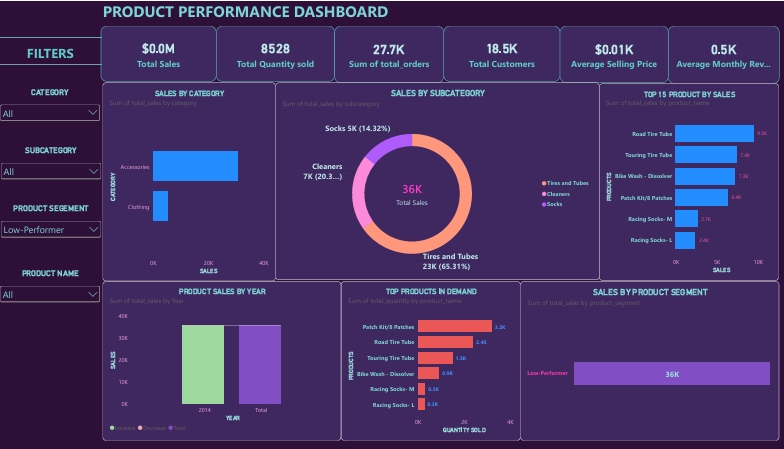

What the dashboard file says about the page in this screenshot:
{"tool":"powerbi","page":{"name":"Page 2","canvas":[1920,1080],"ordinal":1},"visuals":[{"type":"advanceCardE03760C5AB684758B56AA29F9E6C257B","fields":{"mainMeasure":["Sum(gold report_products.total_sales)"]},"box":[252.1,61.3,283.9,136.3],"z":0},{"type":"advanceCardE03760C5AB684758B56AA29F9E6C257B","fields":{"mainMeasure":["Sum(gold report_products.total_quantity)"]},"box":[536,61.3,290.7,136.3],"z":1},{"type":"advanceCardE03760C5AB684758B56AA29F9E6C257B","fields":{"mainMeasure":["Sum(gold report_customers.total_orders)"]},"box":[826.8,61.3,268.1,139],"z":2},{"type":"advanceCardE03760C5AB684758B56AA29F9E6C257B","fields":{"mainMeasure":["Count(gold report_customers.customer_key)"]},"box":[1094.8,61.3,286.2,136.3],"z":3},{"type":"advanceCardE03760C5AB684758B56AA29F9E6C257B","fields":{"mainMeasure":["Avg(gold report_products.avg_selling_price)"]},"box":[1381,61.3,265.7,138.5],"z":4},{"type":"advanceCardE03760C5AB684758B56AA29F9E6C257B","fields":{"mainMeasure":["Avg(gold report_products.avg_monthly_revenue)"]},"box":[1646.7,61.3,272.6,140.8],"z":5},{"type":"slicer","title":"CATEGORY","fields":{"Values":["gold report_products.category"]},"box":[0,211.2,255,84],"z":6},{"type":"donutChart","title":"SALES BY SUBCATEGORY","fields":{"Category":["gold report_products.subcategory"],"Y":["Sum(gold report_products.total_sales)"]},"box":[681.4,199.9,796.1,485.3],"z":8},{"type":"barChart","title":"SALES BY CATEGORY","fields":{"Category":["gold report_products.category"],"Y":["Sum(gold report_products.total_sales)"]},"box":[256.7,199.9,424.7,488.3],"z":9},{"type":"clusteredBarChart","title":"TOP 15 PRODUCT BY SALES","fields":{"Category":["gold report_products.product_name"],"Y":["Sum(gold report_products.total_sales)"]},"box":[1476.3,202.1,441.9,484.1],"z":11},{"type":"waterfallChart","title":"PRODUCT SALES BY YEAR","fields":{"Category":["gold report_products.last_sale_date.Variation.Date Hierarchy.Year"],"Y":["Sum(gold report_products.total_sales)"]},"box":[256.7,688.2,586,390.7],"z":12},{"type":"funnel","title":"SALES BY PRODUCT SEGMENT","fields":{"Category":["gold report_products.product_segment"],"Y":["Sum(gold report_products.total_sales)"]},"box":[1283.3,688.2,636,390.7],"z":13},{"type":"clusteredBarChart","title":"TOP  PRODUCTS IN DEMAND","fields":{"Category":["gold report_products.product_name"],"Y":["Sum(gold report_products.total_quantity)"]},"box":[842.7,688.2,440.6,390.7],"z":14},{"type":"slicer","title":"SUBCATEGORY","fields":{"Values":["gold report_products.subcategory"]},"box":[2.3,354.3,255,84],"z":15},{"type":"textbox","box":[256.7,0,917.6,56.8],"z":16},{"type":"slicer","title":"PRODUCT SEGEMENT","fields":{"Values":["gold report_products.product_segment"]},"box":[2.3,497.4,255,84],"z":17},{"type":"slicer","title":"PRODUCT NAME","fields":{"Values":["gold report_products.product_name"]},"box":[0,656.4,255,84],"z":18},{"type":"shape","box":[0,75,255,29],"z":19},{"type":"shape","box":[0,140.8,255,29],"z":20},{"type":"textbox","box":[0,104.5,256.7,50],"z":21}]}

Visuals, with their boxes in screenshot pixels (x1, y1, x2, y2), scaled from the page's 1920x1080 canvas onto the 784x449 screenshot:
advanceCardE03760C5AB684758B56AA29F9E6C257B - Sum(gold report_products.total_sales): 103,25,219,82
advanceCardE03760C5AB684758B56AA29F9E6C257B - Sum(gold report_products.total_quantity): 219,25,338,82
advanceCardE03760C5AB684758B56AA29F9E6C257B - Sum(gold report_customers.total_orders): 338,25,447,83
advanceCardE03760C5AB684758B56AA29F9E6C257B - Count(gold report_customers.customer_key): 447,25,564,82
advanceCardE03760C5AB684758B56AA29F9E6C257B - Avg(gold report_products.avg_selling_price): 564,25,672,83
advanceCardE03760C5AB684758B56AA29F9E6C257B - Avg(gold report_products.avg_monthly_revenue): 672,25,783,84
"CATEGORY" slicer: 0,88,104,123
"SALES BY SUBCATEGORY" donutChart: 278,83,603,285
"SALES BY CATEGORY" barChart: 105,83,278,286
"TOP 15 PRODUCT BY SALES" clusteredBarChart: 603,84,783,285
"PRODUCT SALES BY YEAR" waterfallChart: 105,286,344,448
"SALES BY PRODUCT SEGMENT" funnel: 524,286,783,448
"TOP  PRODUCTS IN DEMAND" clusteredBarChart: 344,286,524,448
"SUBCATEGORY" slicer: 1,147,105,182
textbox: 105,0,480,24
"PRODUCT SEGEMENT" slicer: 1,207,105,242
"PRODUCT NAME" slicer: 0,273,104,308
shape: 0,31,104,43
shape: 0,59,104,71
textbox: 0,43,105,64
